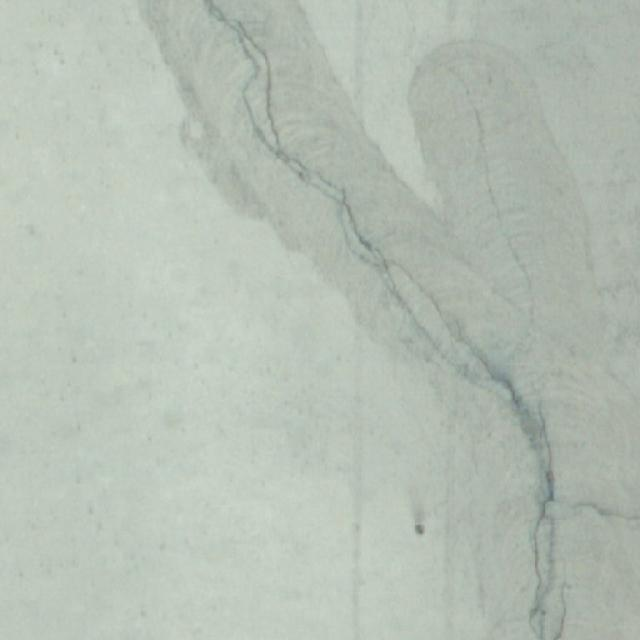Network: (152, 0, 640, 640)
